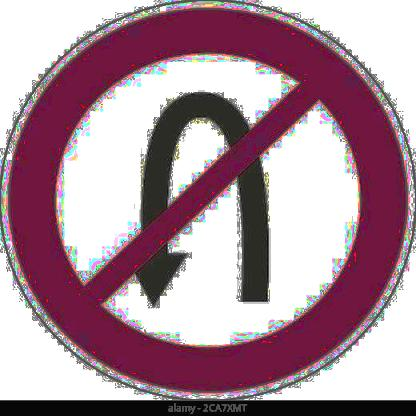No U-turn: (3, 3, 415, 400)
